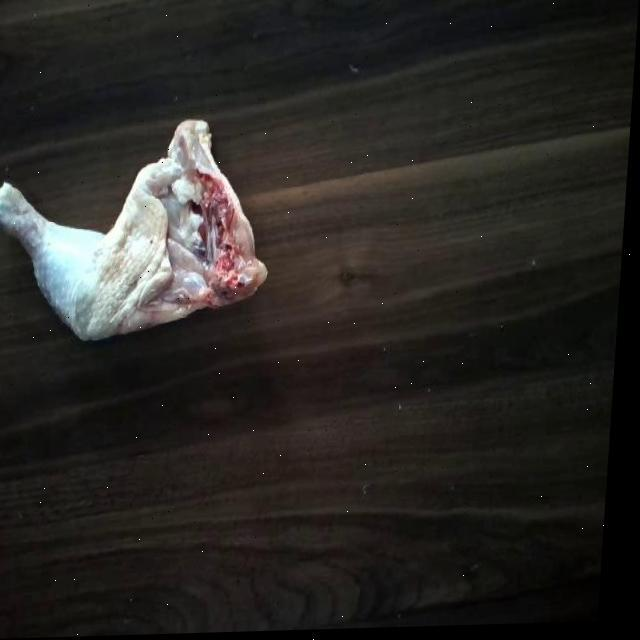quater: (0, 107, 278, 363)
